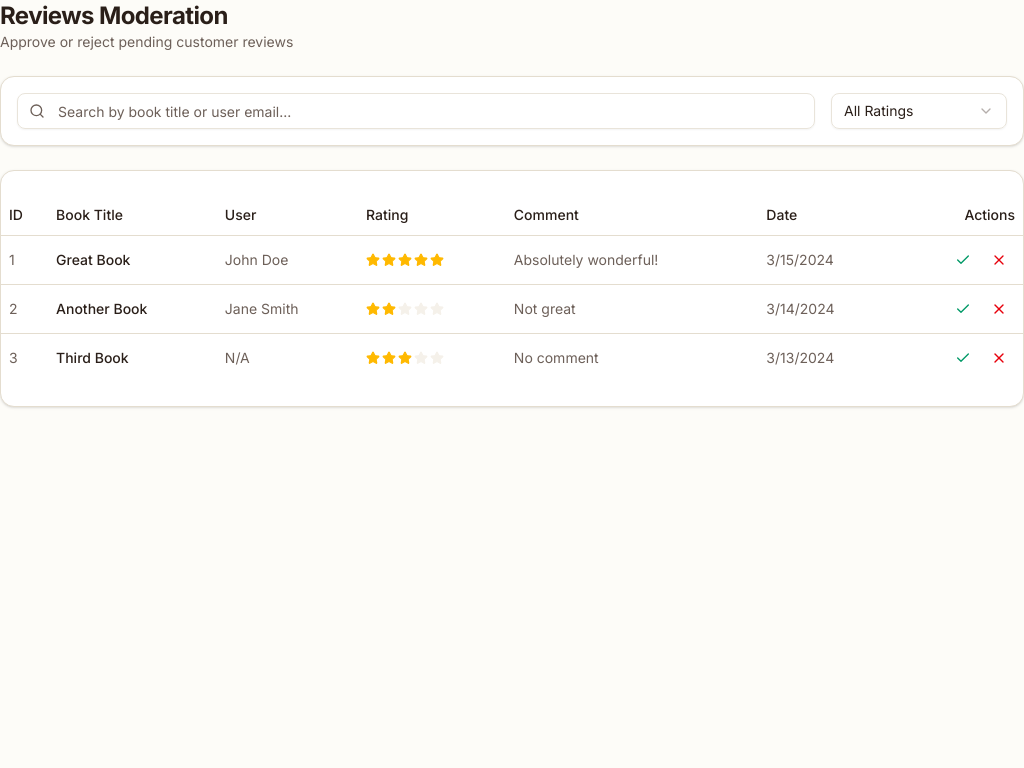
ReviewsModerationPage › should open reject dialog when reject button is clicked
Expected: the text "Great Book" is shown, [48,235,217,284]
What coordinates should you click on to do the following:
click the 2nd button
I would click on:
 (999, 260)
Its box is [983,244,1015,276].
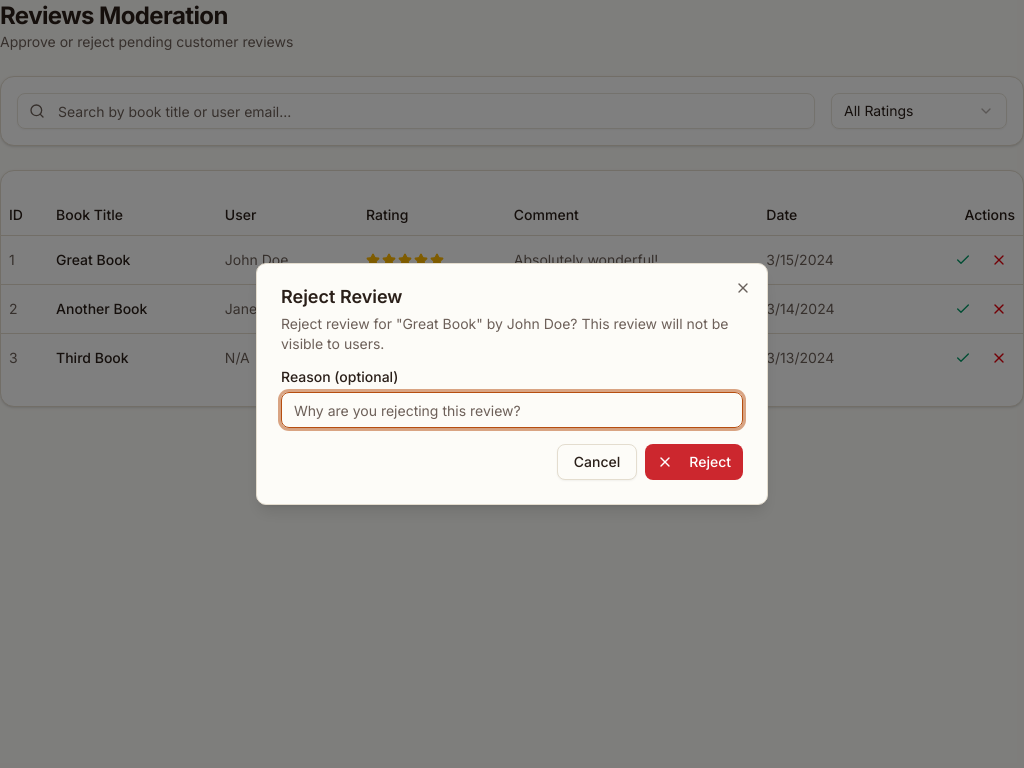
Now the heading "Reject Review" is shown, box [281,286,402,307]
Now the text "Reject review for" is shown, box [281,315,402,332]
Now the field labelled "Reason (optional)" is shown, box [281,392,743,428]
